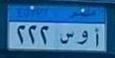2: (39, 24, 51, 47), (27, 23, 37, 46), (16, 23, 26, 46)
alif: (93, 27, 101, 48)
seen: (60, 30, 75, 47)
waw: (77, 29, 89, 48)
